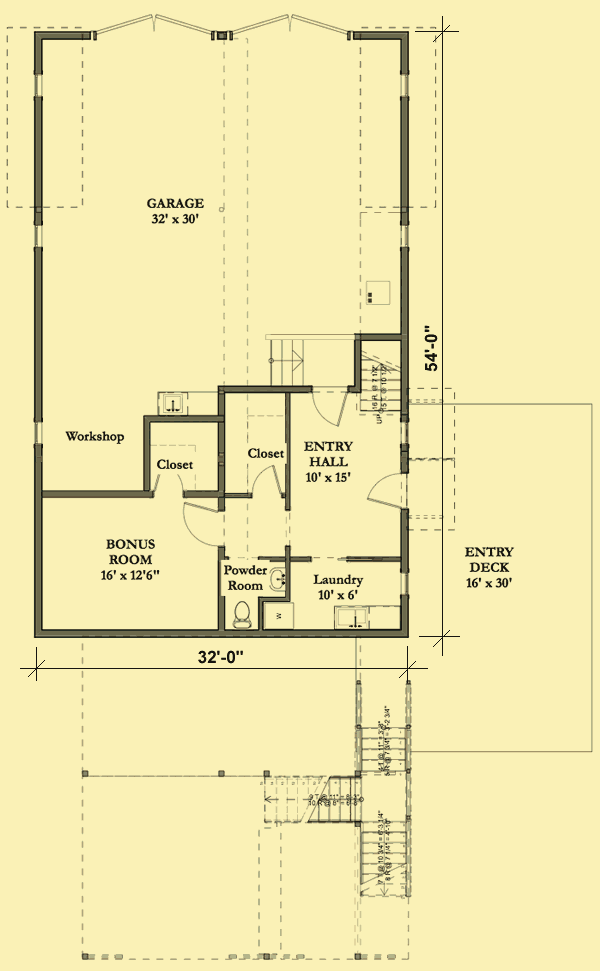door: (177, 500, 226, 549), (305, 387, 349, 430), (366, 469, 405, 511), (244, 466, 285, 500)
large_sink: (227, 596, 255, 633)
small_sink: (266, 563, 286, 597)
stairs: (261, 725, 413, 904), (265, 332, 357, 391), (358, 341, 407, 413)
